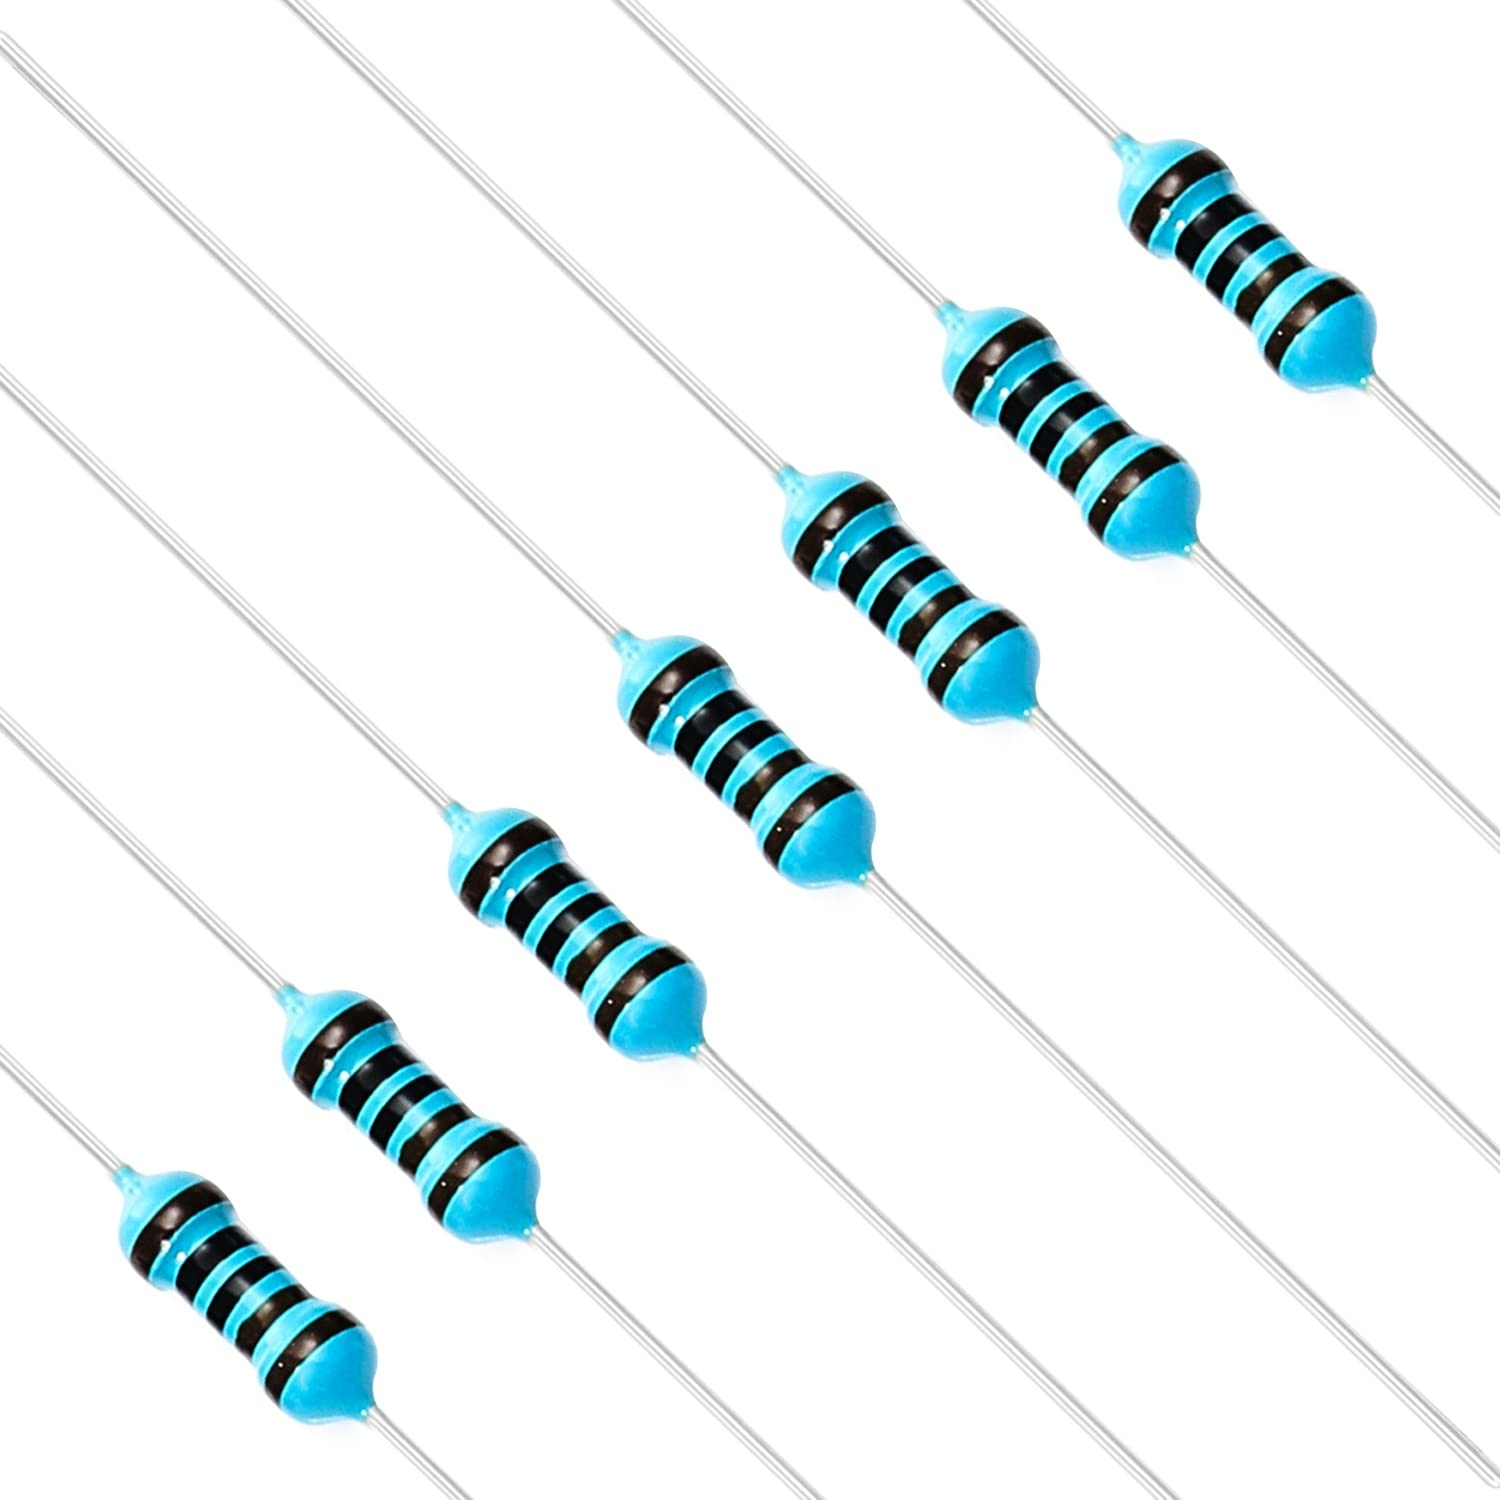resistor: (1060, 74, 1430, 449), (223, 922, 592, 1297), (882, 240, 1250, 615), (724, 407, 1092, 782), (558, 567, 926, 942), (386, 746, 754, 1121), (63, 1104, 431, 1479)
